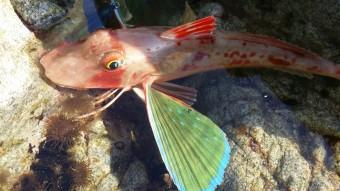fish: (40, 13, 339, 190)
